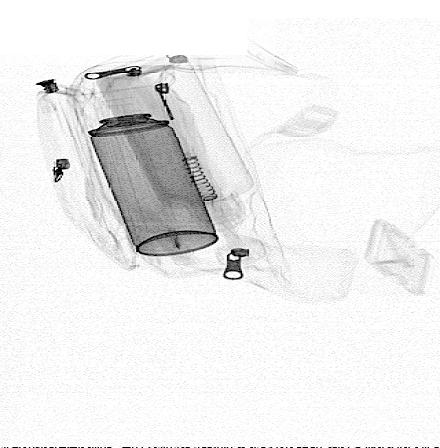Sprayer: (72, 83, 223, 259)
